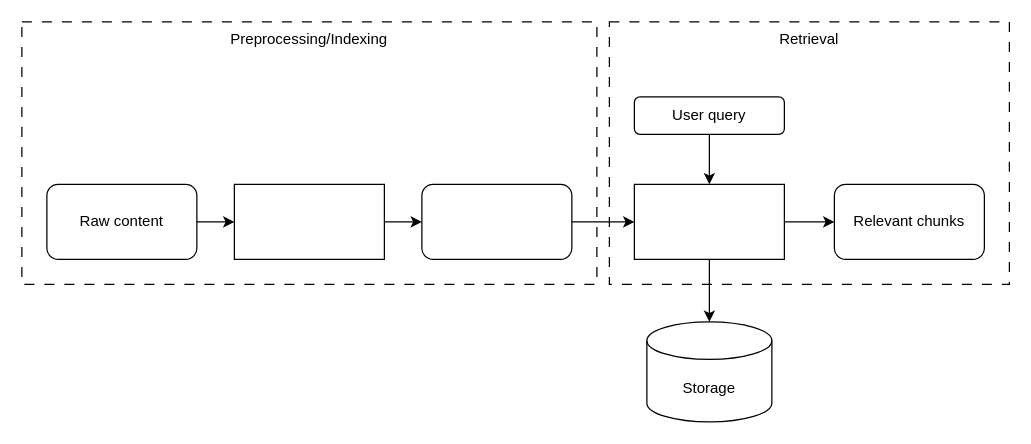
This 1031x444 diagram has some shape labels left out. The shapes that lost their labels are listed below. From the top down, each one's centre as x and y in pixels, then its label:
At pixel 308 221: "Chunker".
At pixel 496 221: "Chunks".
At pixel 708 221: "Search Engine/ Vector database".
